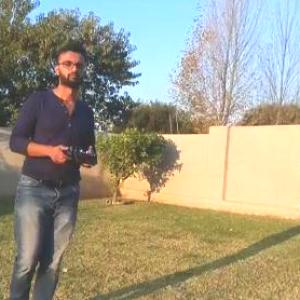follow: (4, 30, 105, 299)
